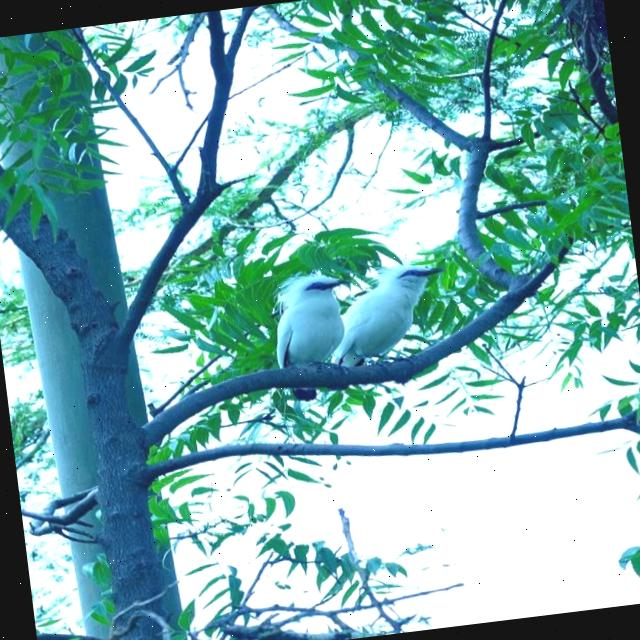Jalak Bali: (247, 264, 364, 410), (334, 250, 465, 378)
